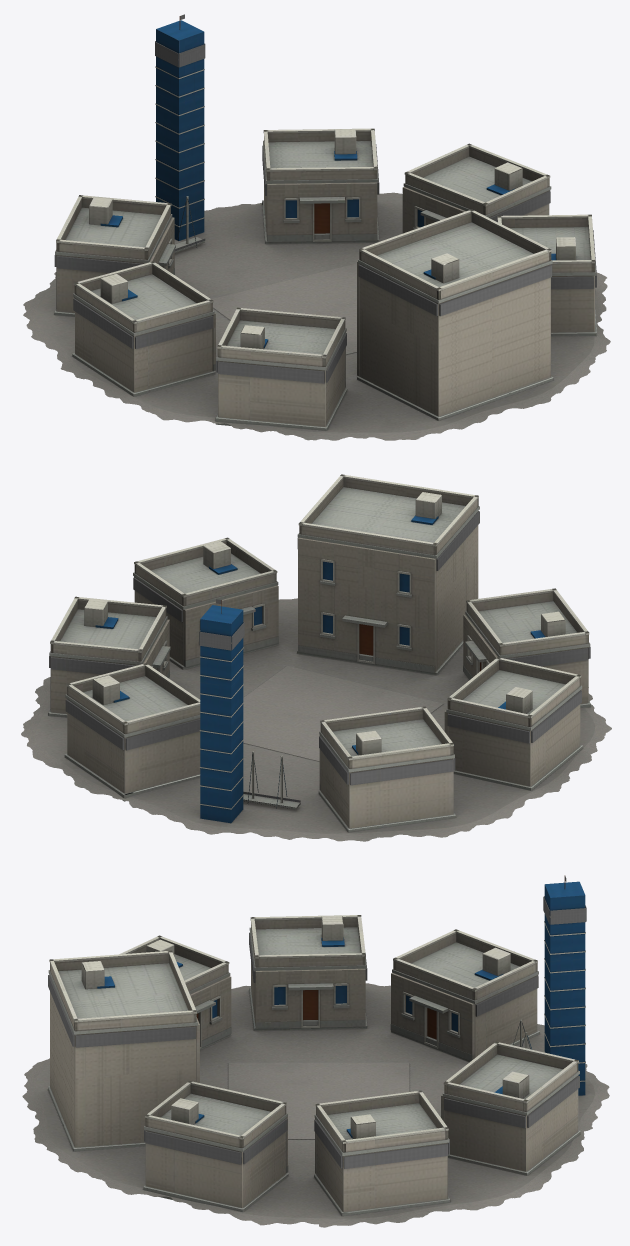
File: modern-town-small-b-indic.glb
3 views of the same model, one above another, from view 1: azimuth 30°, elevation 25°; view 2: azimuth 150°, elevation 25°; view 3: azimuth 270°, elevation 25° (orthographic).
Visible parts, largest first — view 1: LOD0; view 2: LOD0; view 3: LOD0.
Part boxes in pixels (x1,y1,x2,y2): LOD0: [23, 14, 610, 440]; LOD0: [21, 474, 611, 841]; LOD0: [22, 875, 609, 1227].
Size of what is drawn, in the model's own units: 3.95 by 1.6 by 4.
3 materials, 3 textured.
